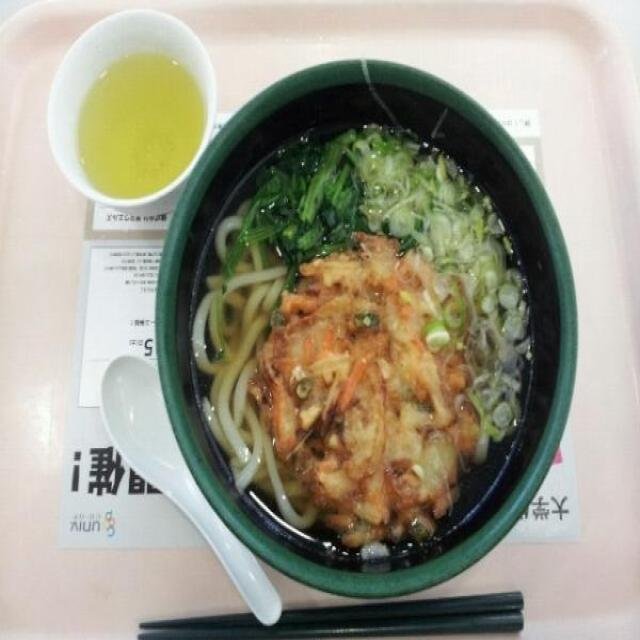面条主食: (150, 43, 584, 602)
